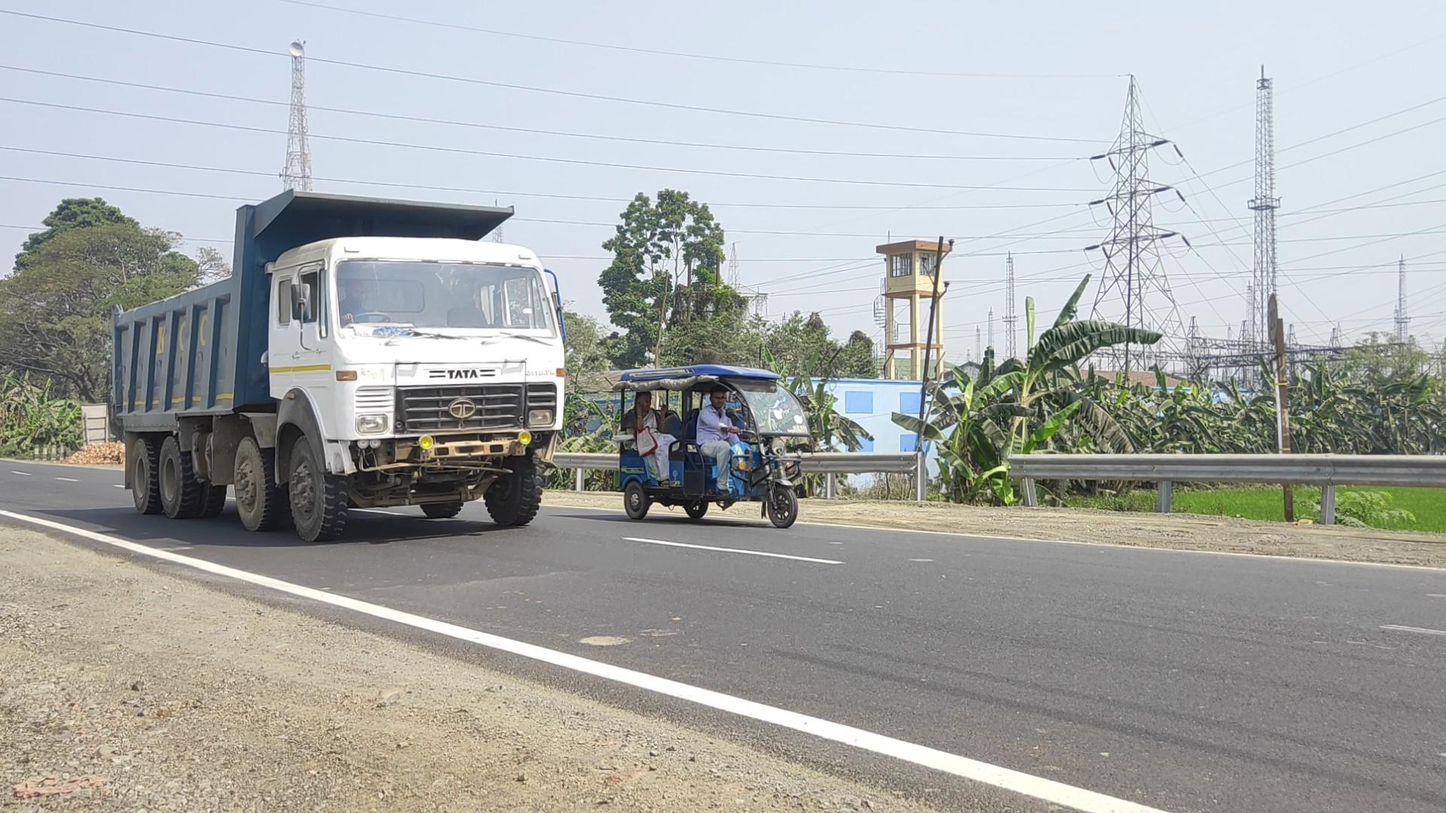Auto: (618, 364, 812, 529)
truck: (111, 187, 566, 543)
